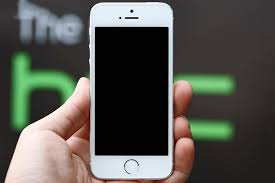iphone: (88, 1, 177, 181)
iphone5: (87, 2, 176, 183)
